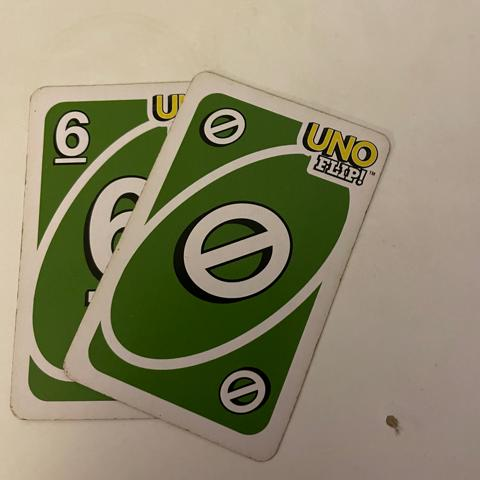lgreen-6: (37, 98, 109, 171)
lgreenskip-20: (192, 96, 254, 167)
